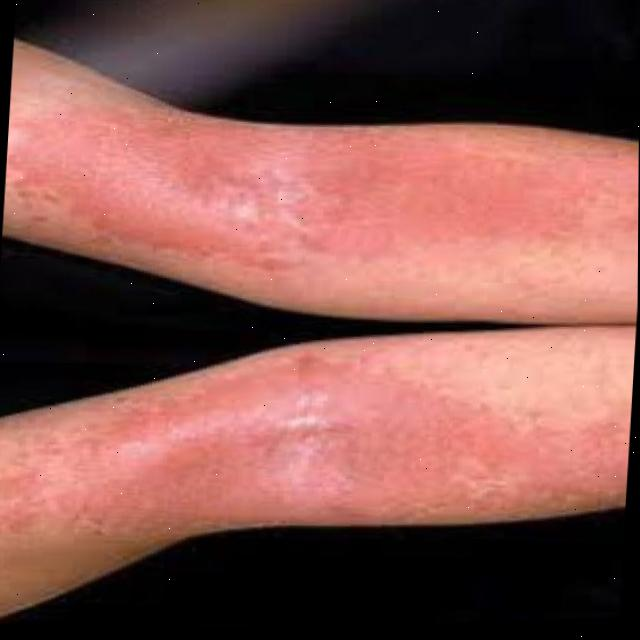Eczema: (0, 321, 634, 590), (15, 59, 598, 312)
